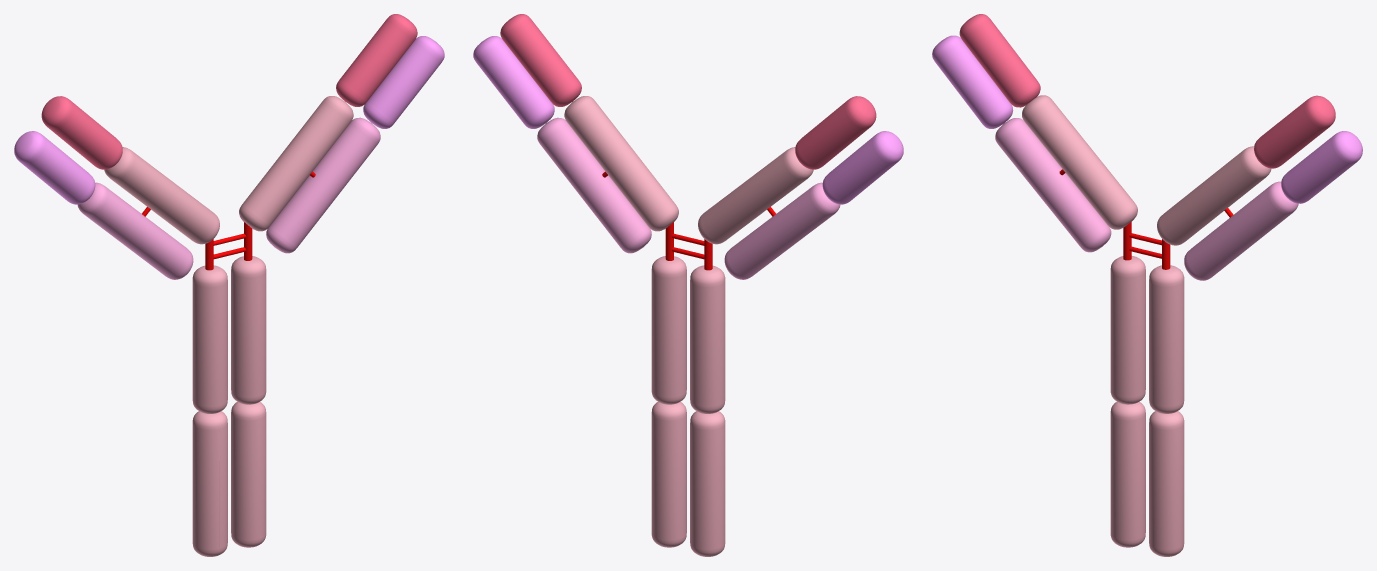
The model's file is antibodies_igg.glb.
3 renders of one model, left to right at view 1: azimuth 30°, elevation 25°; view 2: azimuth 150°, elevation 25°; view 3: azimuth 330°, elevation 25°, orthographic.
Visible parts, largest first — view 1: IgG; view 2: IgG; view 3: IgG.
Boxes of the visible parts, x1,y1,x2,y2 form: IgG: (14, 14, 444, 556); IgG: (473, 14, 903, 556); IgG: (932, 14, 1362, 556).
Size of the model in its own units: 1.02 by 1.13 by 0.0734.
Materials: 1 (1 with a texture image).
